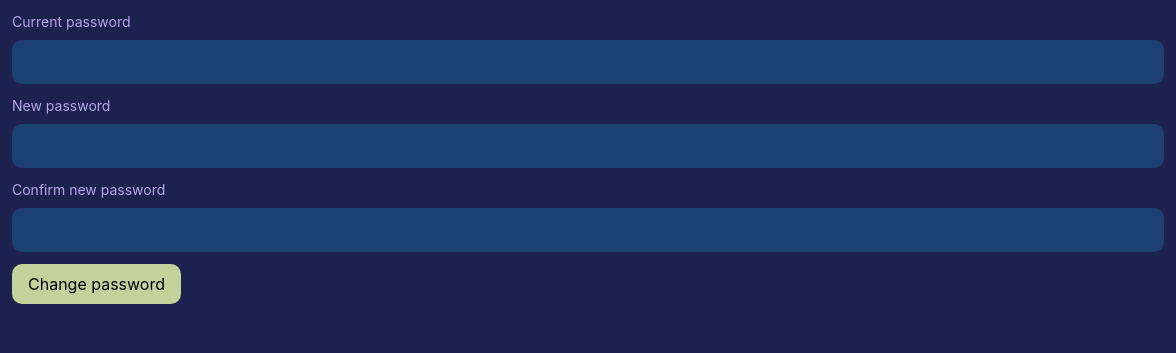
PasswordChangeForm › replaces the session tokens after the current password is accepted
Type "old-password" into the password field labelled "Current password" at coordinates (588, 62), box [12,40,1164,84]
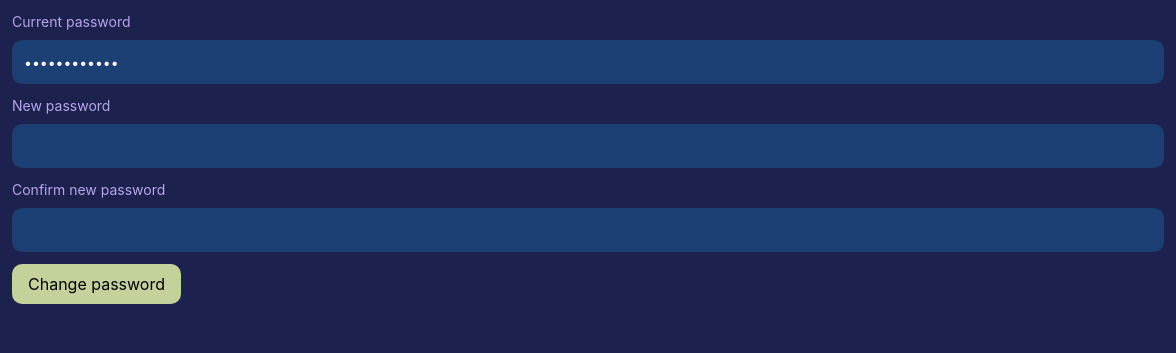
Type "fresh-stamp-7-river" into the password field labelled "New password" at coordinates (588, 146), box [12,124,1164,168]
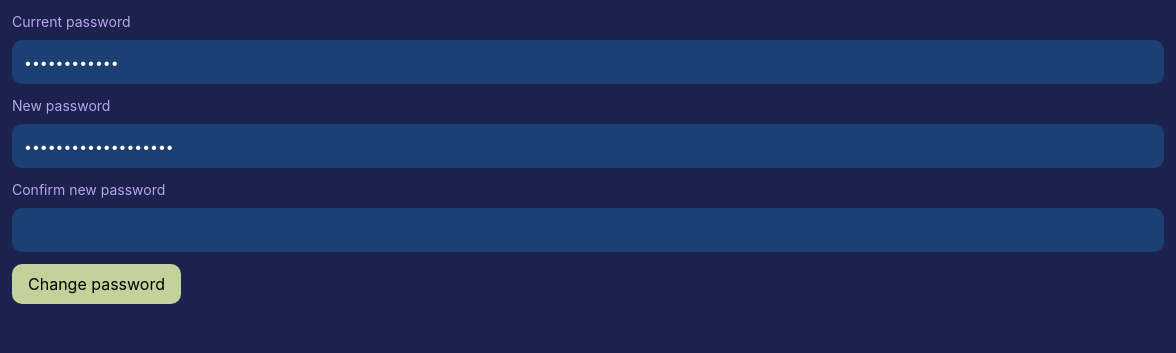
Type "fresh-stamp-7-river" into the password field labelled "Confirm new password" at coordinates (588, 230), box [12,208,1164,252]
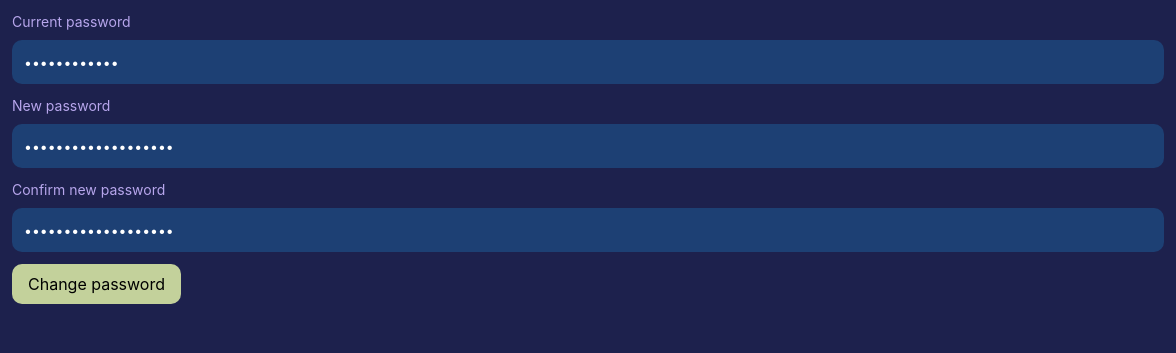
Click the button "Change password" at coordinates (96, 284), box [12,264,181,304]
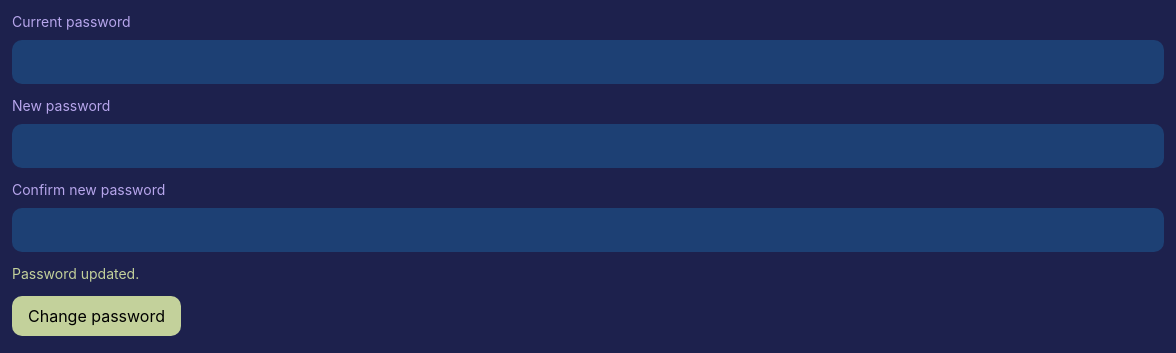
Check: the message reads "Password updated.", box [12,265,139,282]
